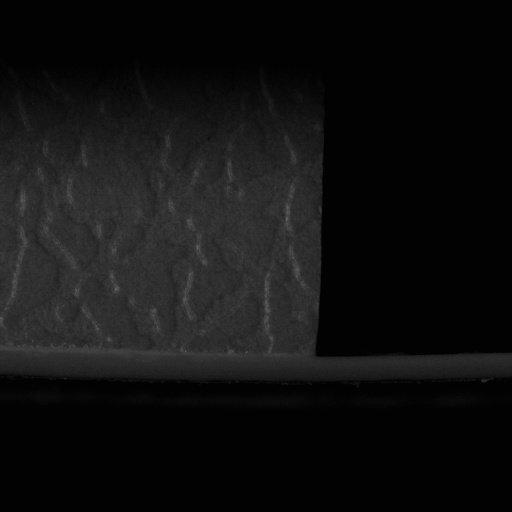changdai: (315, 353, 506, 381)
